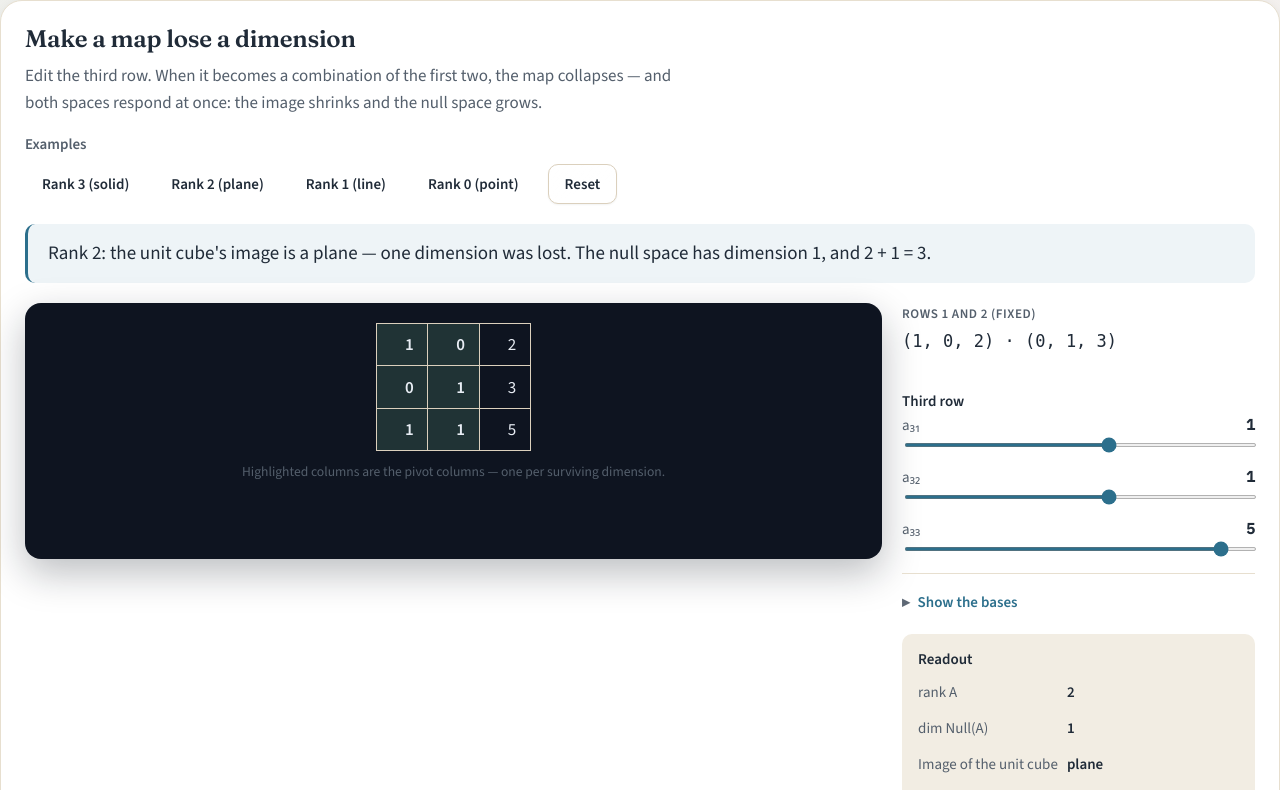
Test: SubspacesRankExplorer › couples the two dimensions across every preset
Click the button "Rank 3 (solid)": (86, 184) [25, 164, 146, 204]
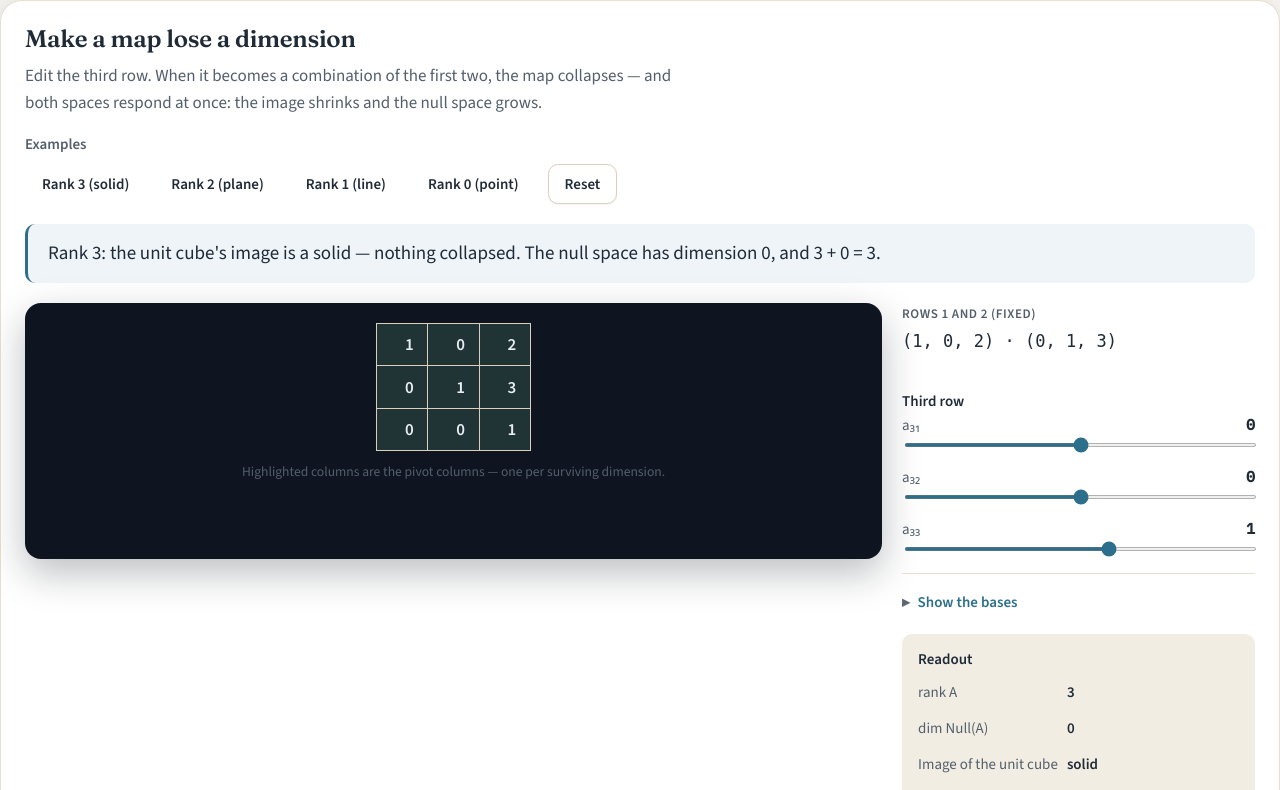
Now the text with test id "subspace-rank" reads "3", box [1067, 682, 1075, 702]
Now the text with test id "subspace-nullity" reads "0", box [1067, 718, 1075, 738]
Now the text with test id "subspace-shape" reads "solid", box [1067, 754, 1098, 774]
Click the button "Rank 2 (plane)": (218, 184) [154, 164, 281, 204]
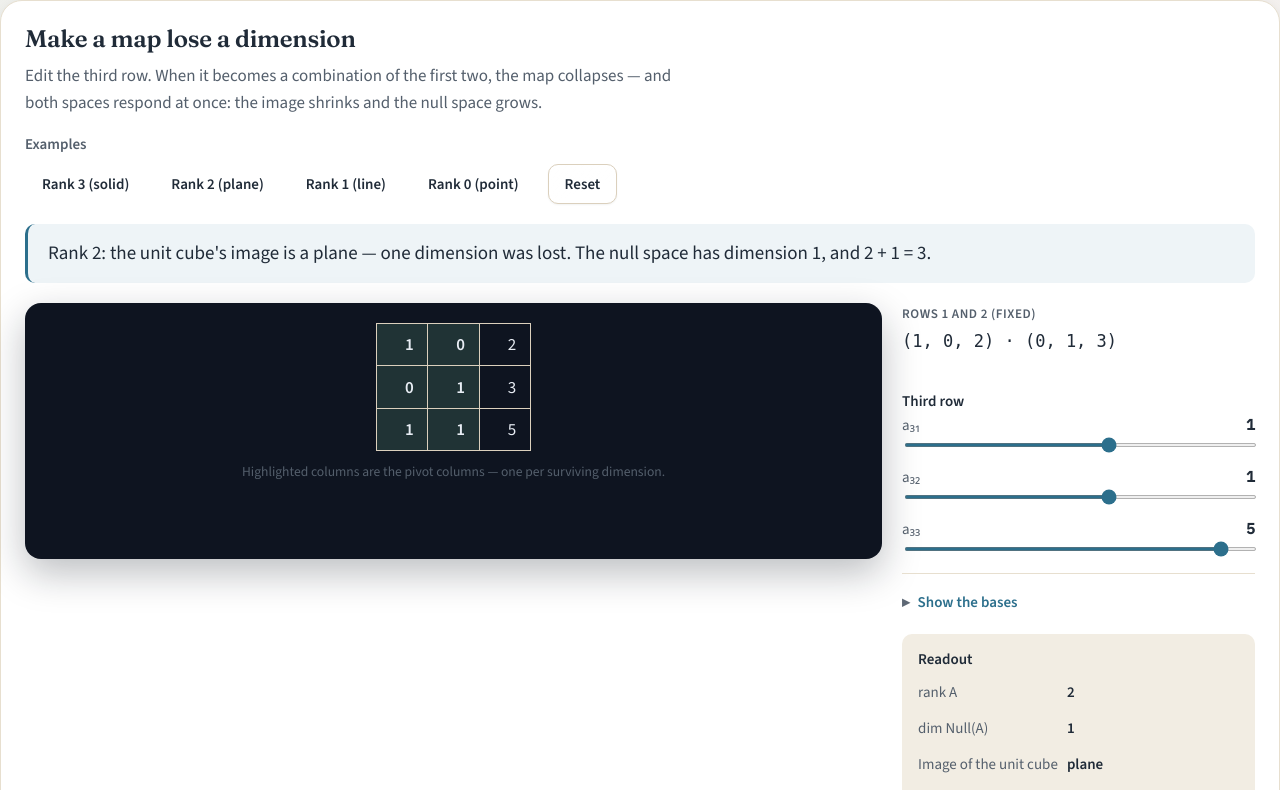
Now the text with test id "subspace-rank" reads "2", box [1067, 682, 1075, 702]
Now the text with test id "subspace-nullity" reads "1", box [1067, 718, 1075, 738]
Now the text with test id "subspace-shape" reads "plane", box [1067, 754, 1103, 774]
Click the button "Rank 1 (line)": (346, 184) [289, 164, 403, 204]
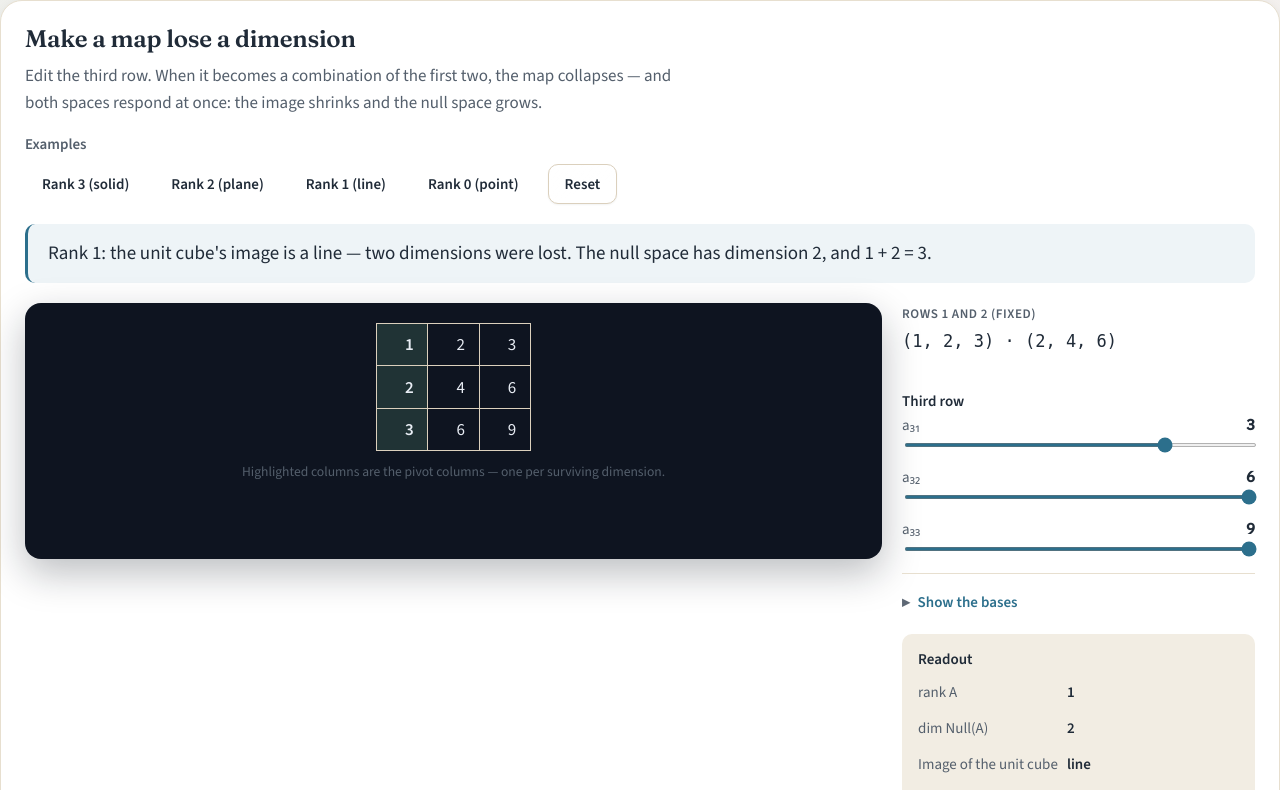
Now the text with test id "subspace-rank" reads "1", box [1067, 682, 1075, 702]
Now the text with test id "subspace-nullity" reads "2", box [1067, 718, 1075, 738]
Now the text with test id "subspace-shape" reads "line", box [1067, 754, 1091, 774]
Click the button "Rank 0 (point)": (473, 184) [411, 164, 536, 204]
(page scrolled)
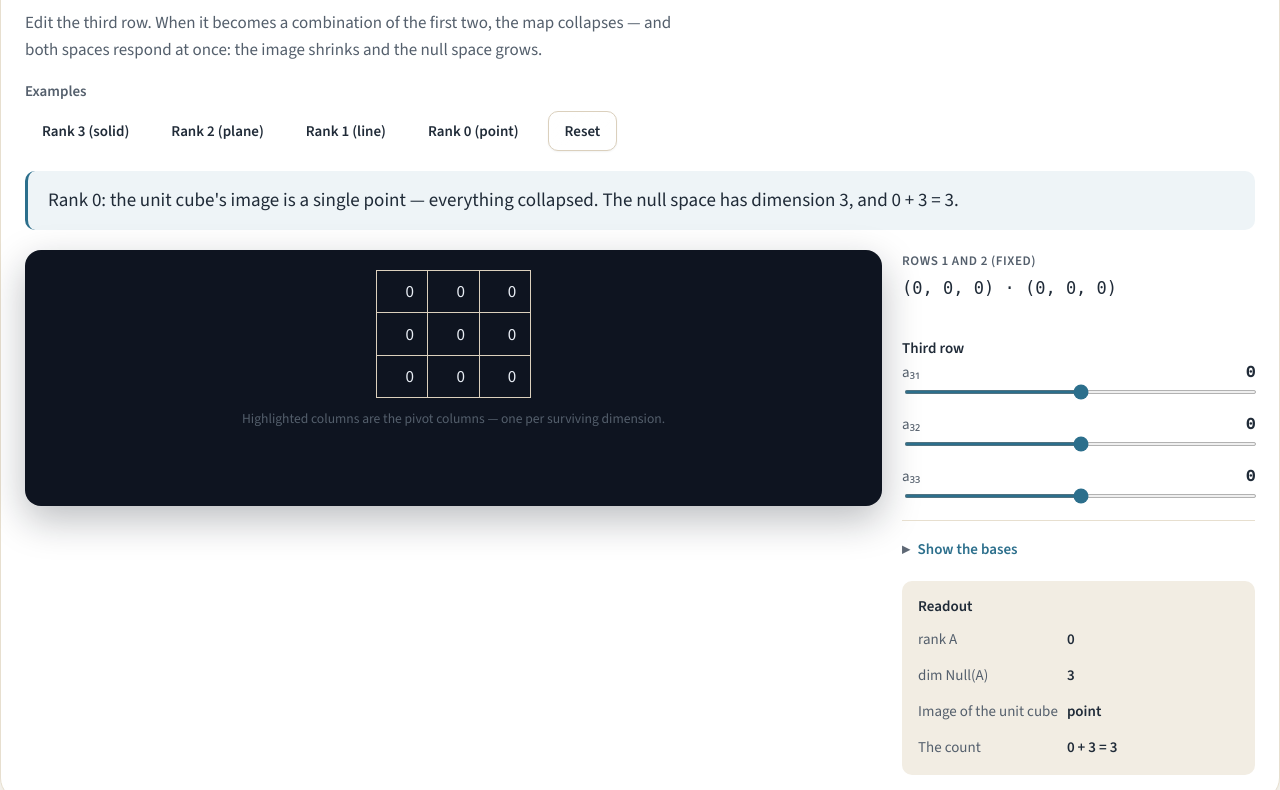
Now the text with test id "subspace-rank" reads "0", box [1067, 628, 1075, 648]
Now the text with test id "subspace-nullity" reads "3", box [1067, 664, 1075, 684]
Now the text with test id "subspace-shape" reads "point", box [1067, 700, 1101, 720]
